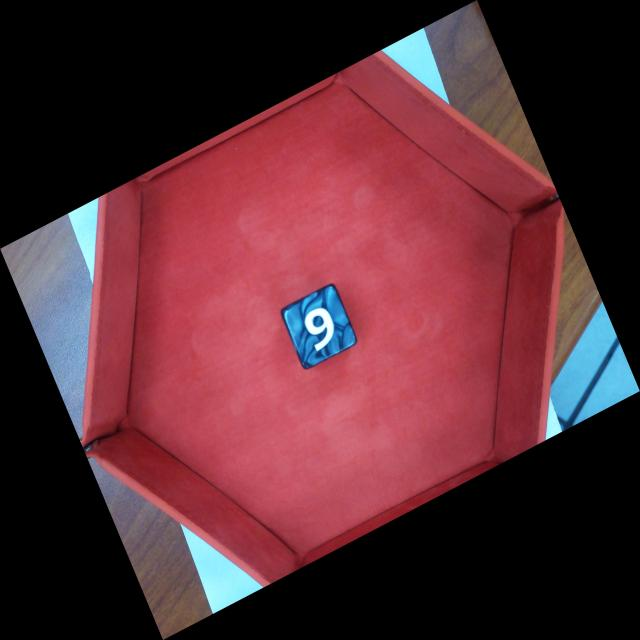dice: (287, 285, 356, 364)
